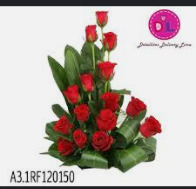RedRose: (137, 112, 164, 141), (91, 129, 115, 155), (94, 108, 115, 131), (98, 60, 119, 82), (125, 96, 146, 118), (103, 90, 122, 114), (77, 71, 95, 93), (73, 102, 90, 125), (100, 30, 119, 50), (52, 115, 71, 135), (57, 137, 76, 157), (72, 128, 89, 150), (64, 84, 81, 104), (80, 24, 98, 42), (94, 8, 110, 27)
